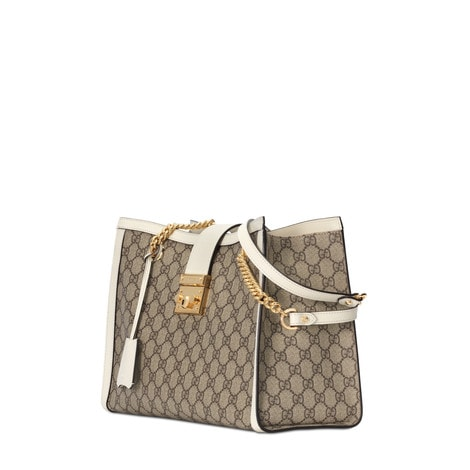Gucci: (107, 211, 373, 437), (165, 334, 262, 407)
